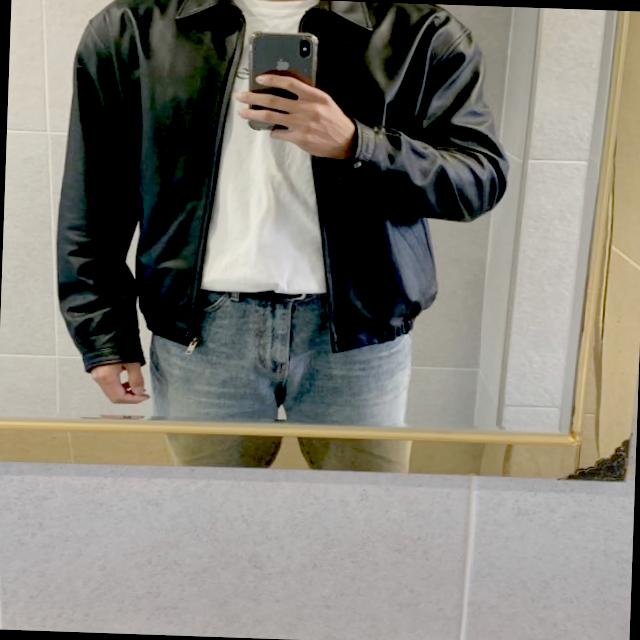denimpants: (138, 287, 416, 482)
jacket: (57, 0, 517, 378)
